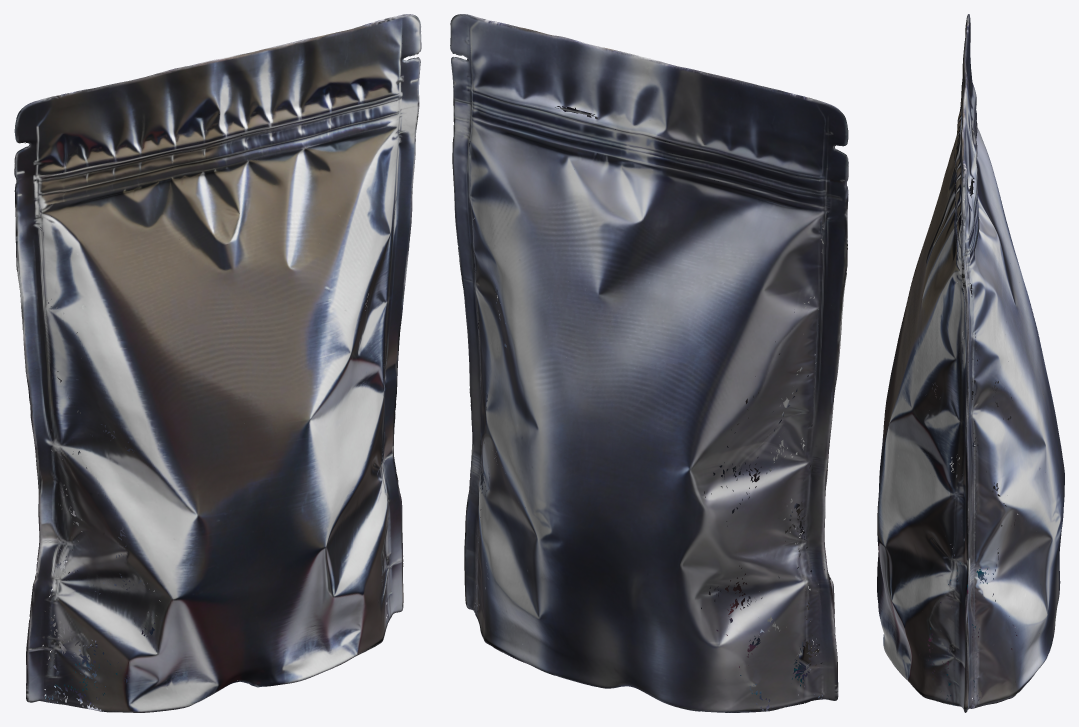
Rendered from product-customizable.glb.
3 renders of one model, left to right at view 1: azimuth 30°, elevation 25°; view 2: azimuth 150°, elevation 25°; view 3: azimuth 270°, elevation 25°, orthographic. The views are drawn at different scales.
Parts seen in each view (by area): view 1: FRONT_PRINT, BACK_PRINT, BOTTOM_PRINT; view 2: BACK_PRINT, FRONT_PRINT, BOTTOM_PRINT; view 3: BACK_PRINT, FRONT_PRINT, BOTTOM_PRINT.
Boxes of the visible parts, box(x1,y1,x2,y2) form: FRONT_PRINT: box(14, 14, 421, 712); BACK_PRINT: box(14, 14, 418, 702); BOTTOM_PRINT: box(27, 612, 399, 712); BACK_PRINT: box(450, 14, 848, 712); FRONT_PRINT: box(453, 14, 848, 697); BOTTOM_PRINT: box(467, 607, 837, 712); BACK_PRINT: box(946, 14, 1064, 712); FRONT_PRINT: box(877, 14, 980, 712); BOTTOM_PRINT: box(899, 554, 1026, 712).
Bounding box in the file's own units: 1.4 × 2 × 0.6287.
Materials: 3 (3 with a texture image).
